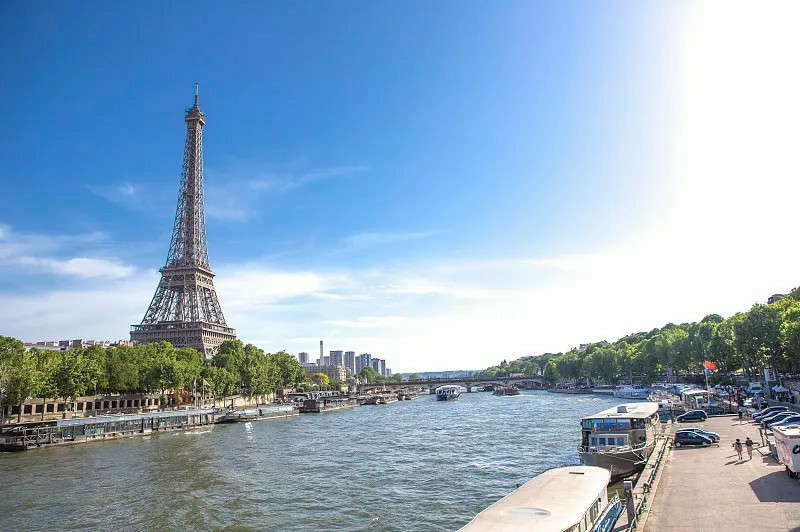Eiffel: (130, 83, 235, 362)
